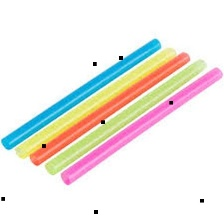drinking_straw: (56, 63, 224, 188)
